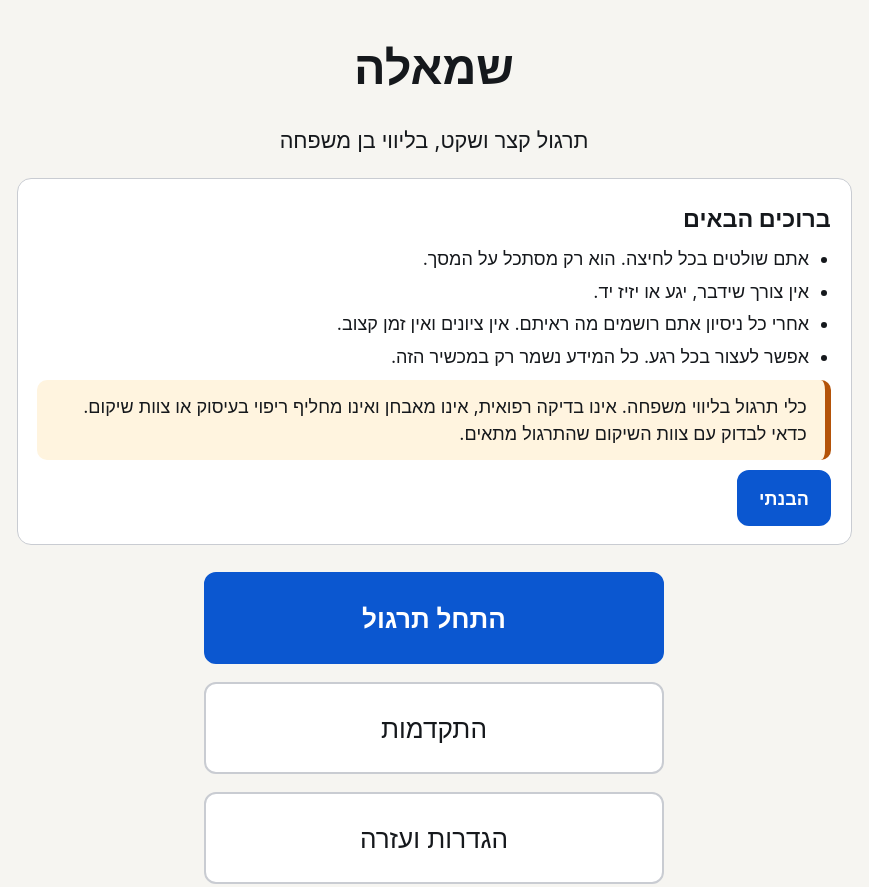
Test: family flow through the UI › "not fit now" never starts an exercise and shows the acute-change safety note
Click the button with test id "home-start": x=434, y=618 [204,572,664,664]
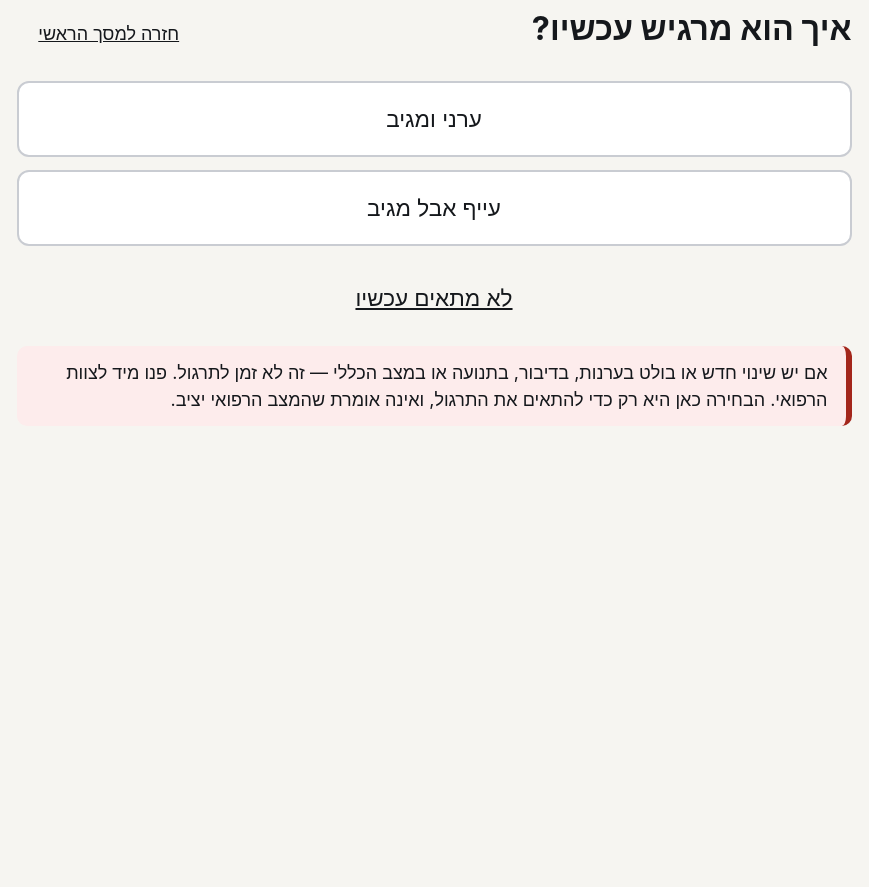
Click the button with test id "readiness-not_fit": x=434, y=298 [16,260,852,336]
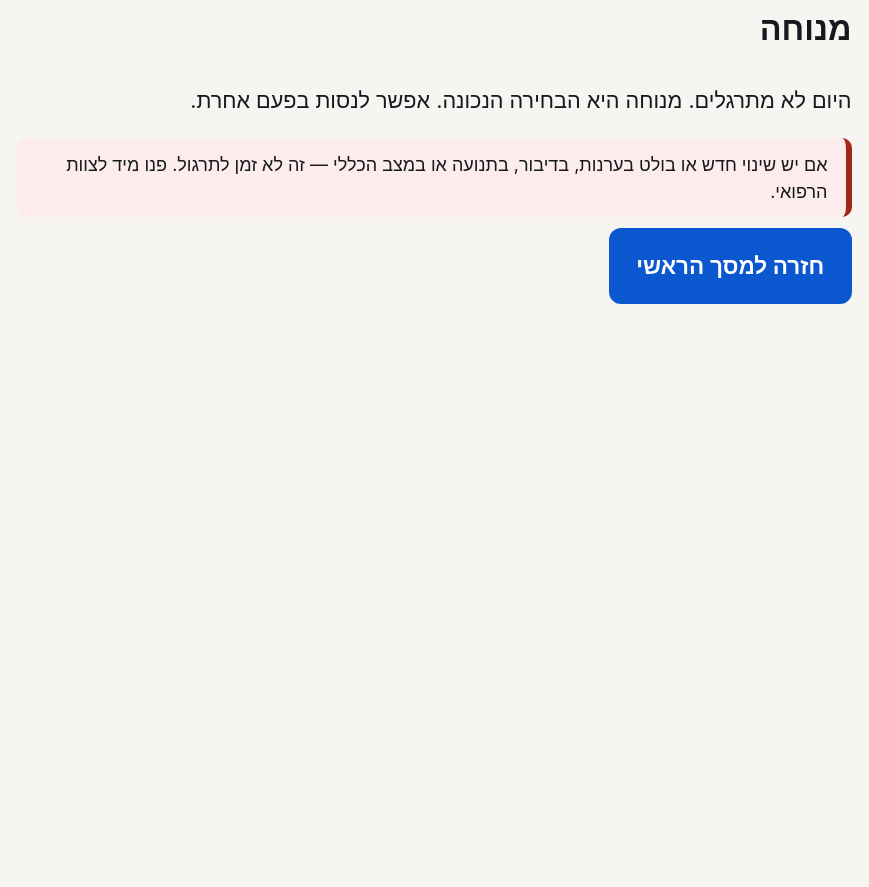
Expected: the text "פנו מיד לצוות הרפואי" is shown, [66,154,828,202]
Expected: the text "היום לא מתרגלים" is shown, [190,87,852,113]
